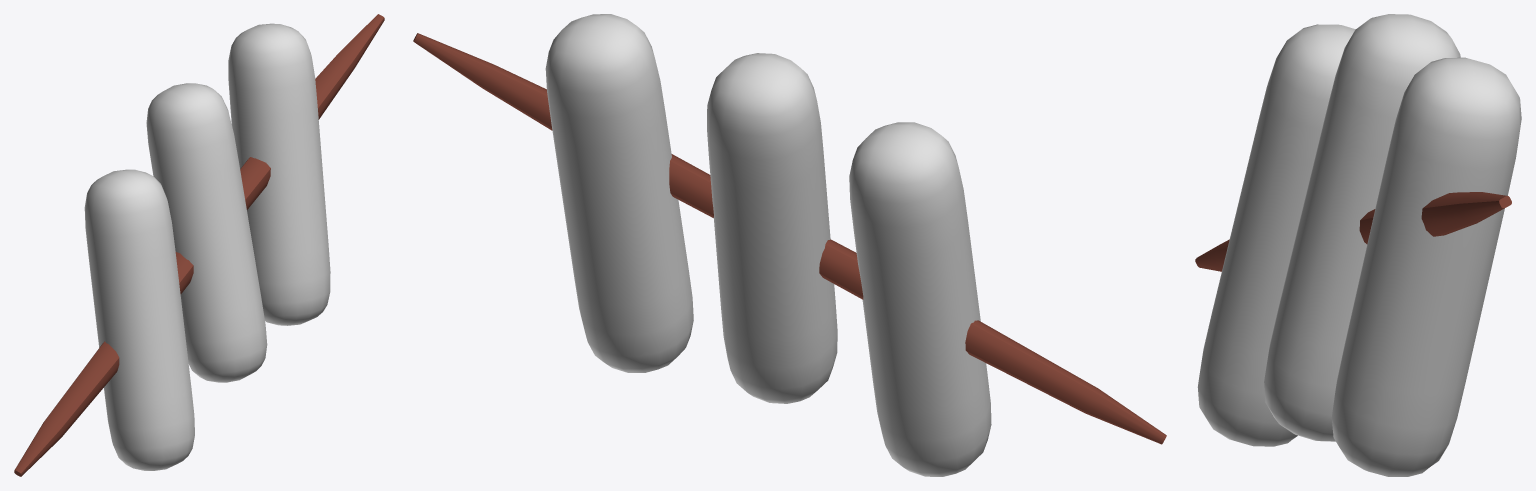
File: Chuzo.fbx
The picture shows the model from 3 angles, left to right: view 1: azimuth 30°, elevation 25°; view 2: azimuth 150°, elevation 25°; view 3: azimuth 270°, elevation 25°; orthographic projection. The views are drawn at different scales.
Parts seen in each view (by area): view 1: Pincho; view 2: Pincho; view 3: Pincho.
Boxes of the visible parts, x1,y1,x2,y2 form: Pincho: [14, 14, 384, 476]; Pincho: [413, 14, 1166, 476]; Pincho: [1195, 14, 1521, 476].
Bounding box in the file's own units: 500 × 350 × 203.
